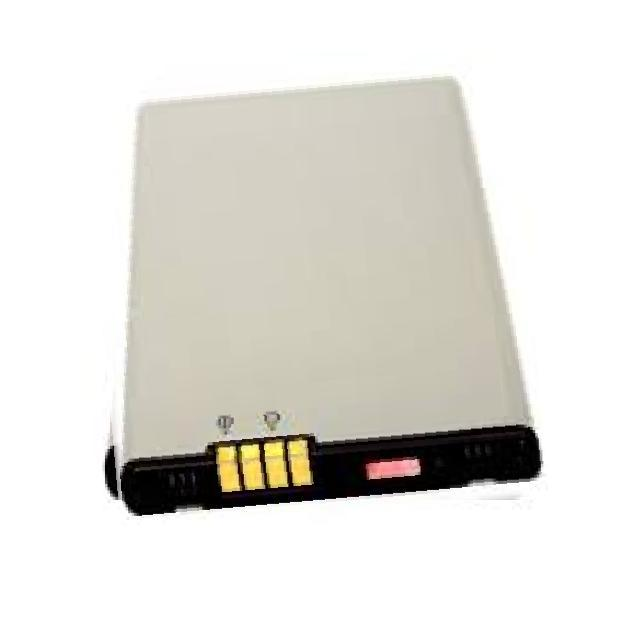Battery: (96, 60, 559, 533)
